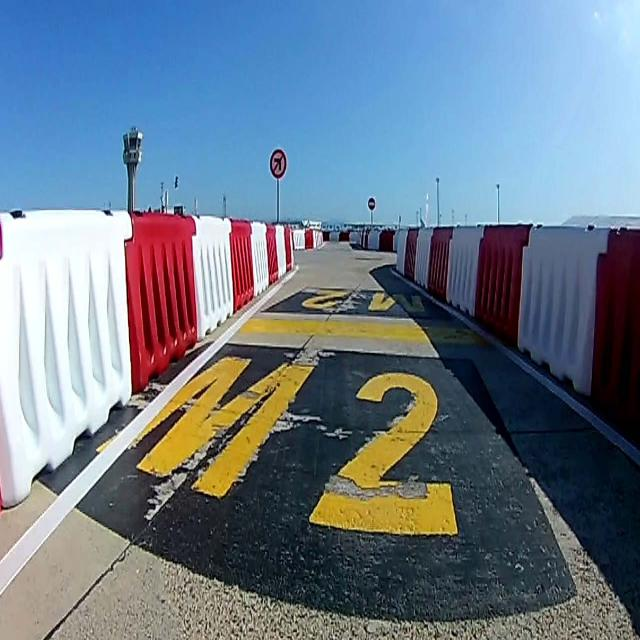girisyok: (366, 195, 376, 210)
soladonulmez: (269, 146, 287, 180)
